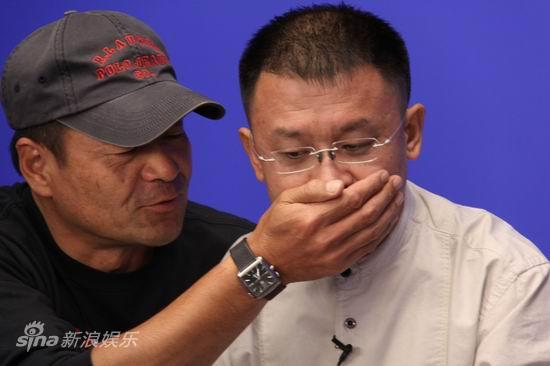face: (265, 75, 400, 248), (76, 99, 192, 247)
